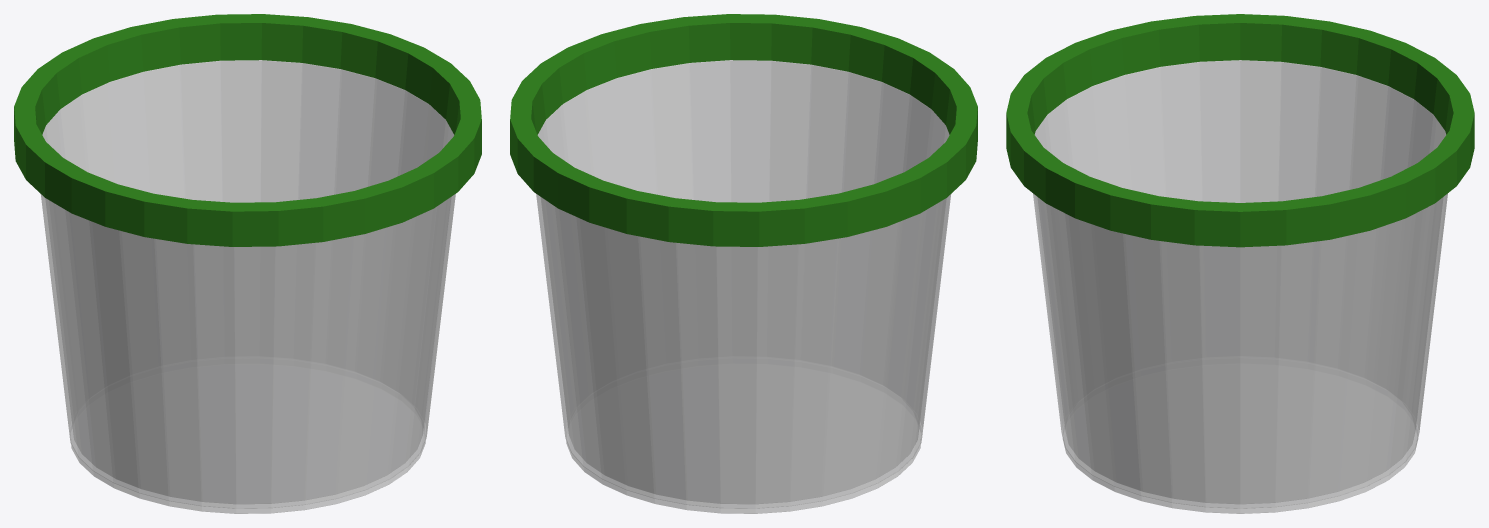
File: bucket.fbx
3 views of the same model, side by side, from view 1: azimuth 30°, elevation 25°; view 2: azimuth 150°, elevation 25°; view 3: azimuth 270°, elevation 25° (orthographic).
Visible parts, largest first — view 1: tahSatl, hashiyehSatl; view 2: tahSatl, hashiyehSatl; view 3: tahSatl, hashiyehSatl.
Boxes of the visible parts, box(x1,y1,x2,y2) form: tahSatl: box(40, 60, 455, 513); hashiyehSatl: box(14, 14, 481, 246); tahSatl: box(536, 60, 951, 513); hashiyehSatl: box(510, 14, 977, 246); tahSatl: box(1033, 60, 1447, 513); hashiyehSatl: box(1006, 14, 1474, 247).
Bounding box in the file's own units: 267 × 205 × 267.
